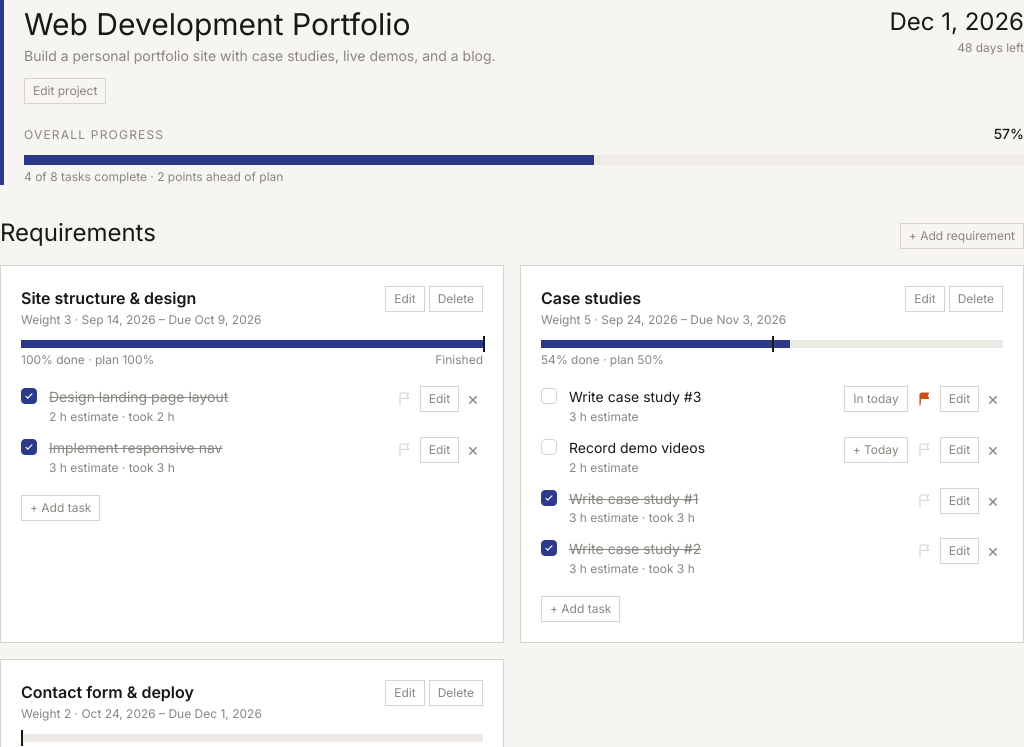
ProjectDetail › adds a requirement
The image size is (1024, 747).
Click the button "+ Add requirement" at [962, 236], box x1=900 y1=223 x2=1023 y2=249
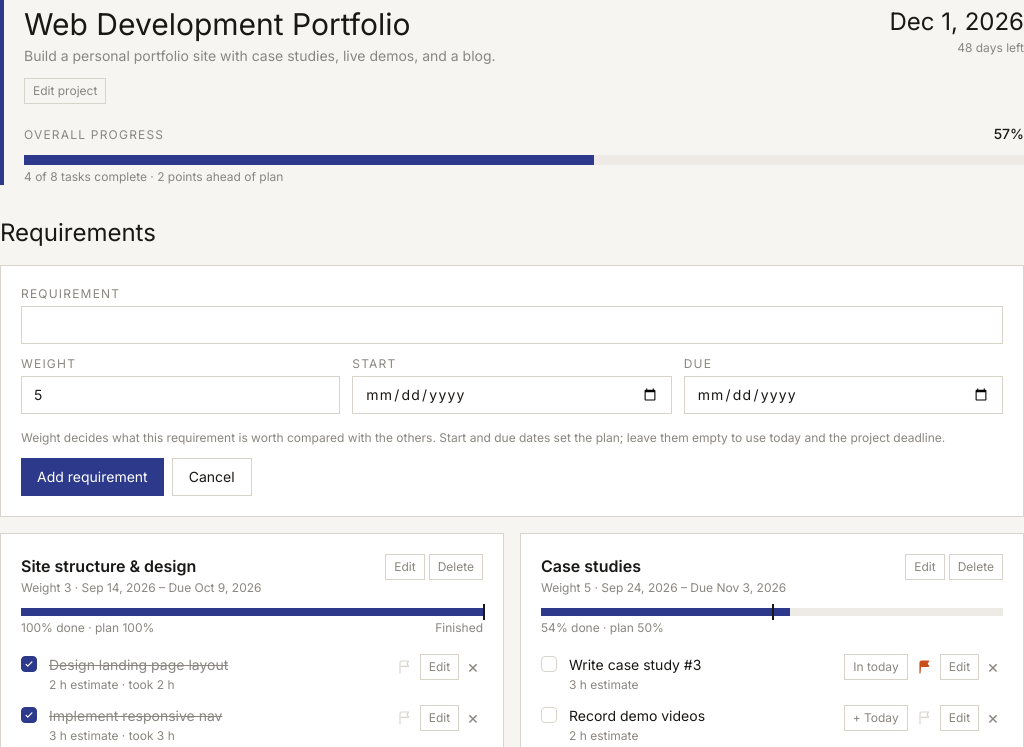
Type "Blog" into the field named "Requirement title" at [512, 325], box x1=21 y1=306 x2=1003 y2=344
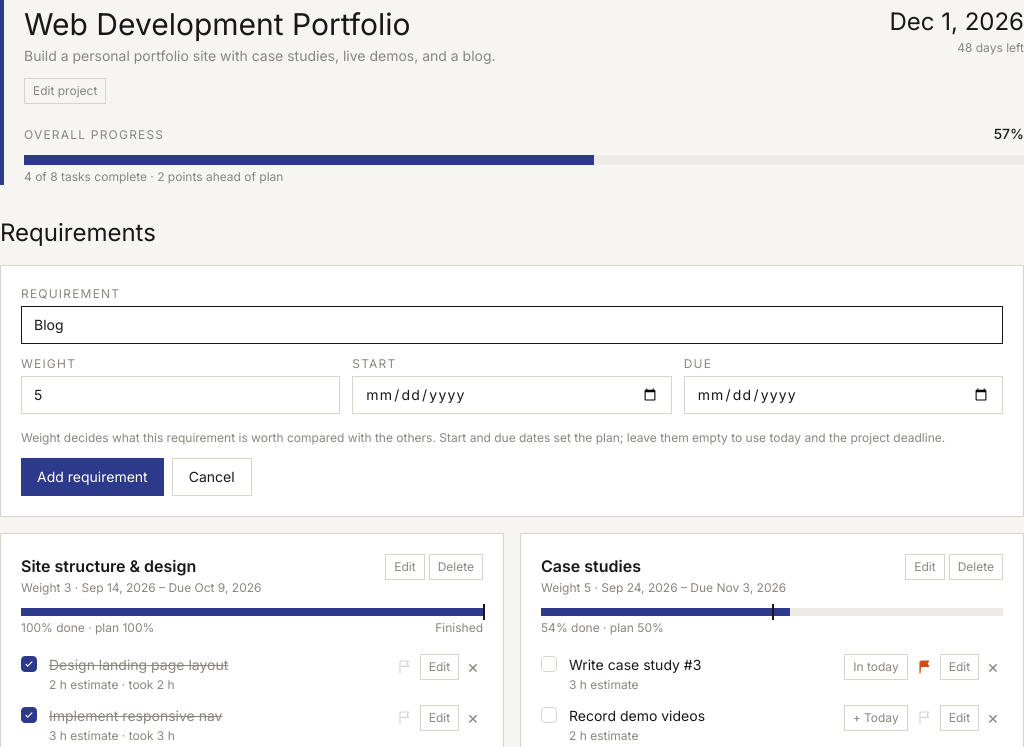
Click the button "Add requirement" at [92, 477], box x1=21 y1=458 x2=164 y2=496
(page scrolled)
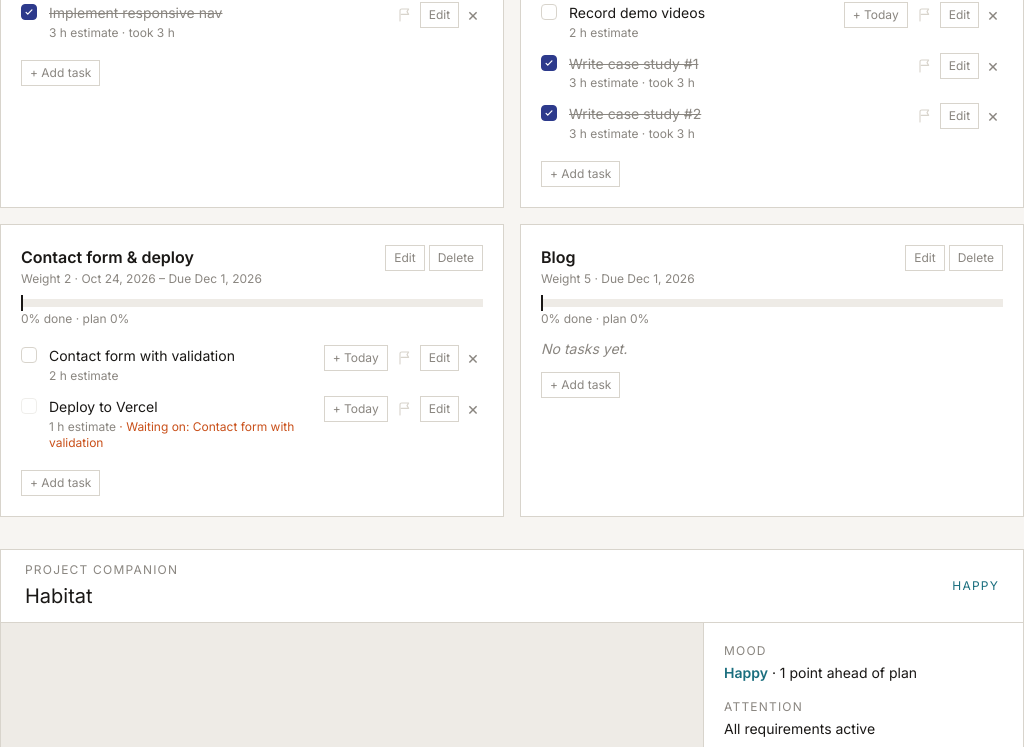
Expected: the element "Blog" is shown, x1=520 y1=224 x2=1023 y2=516
